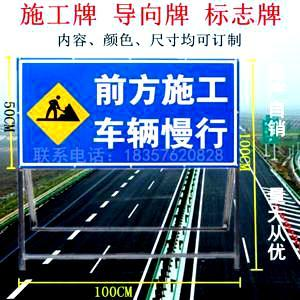sign: (18, 59, 236, 165)
